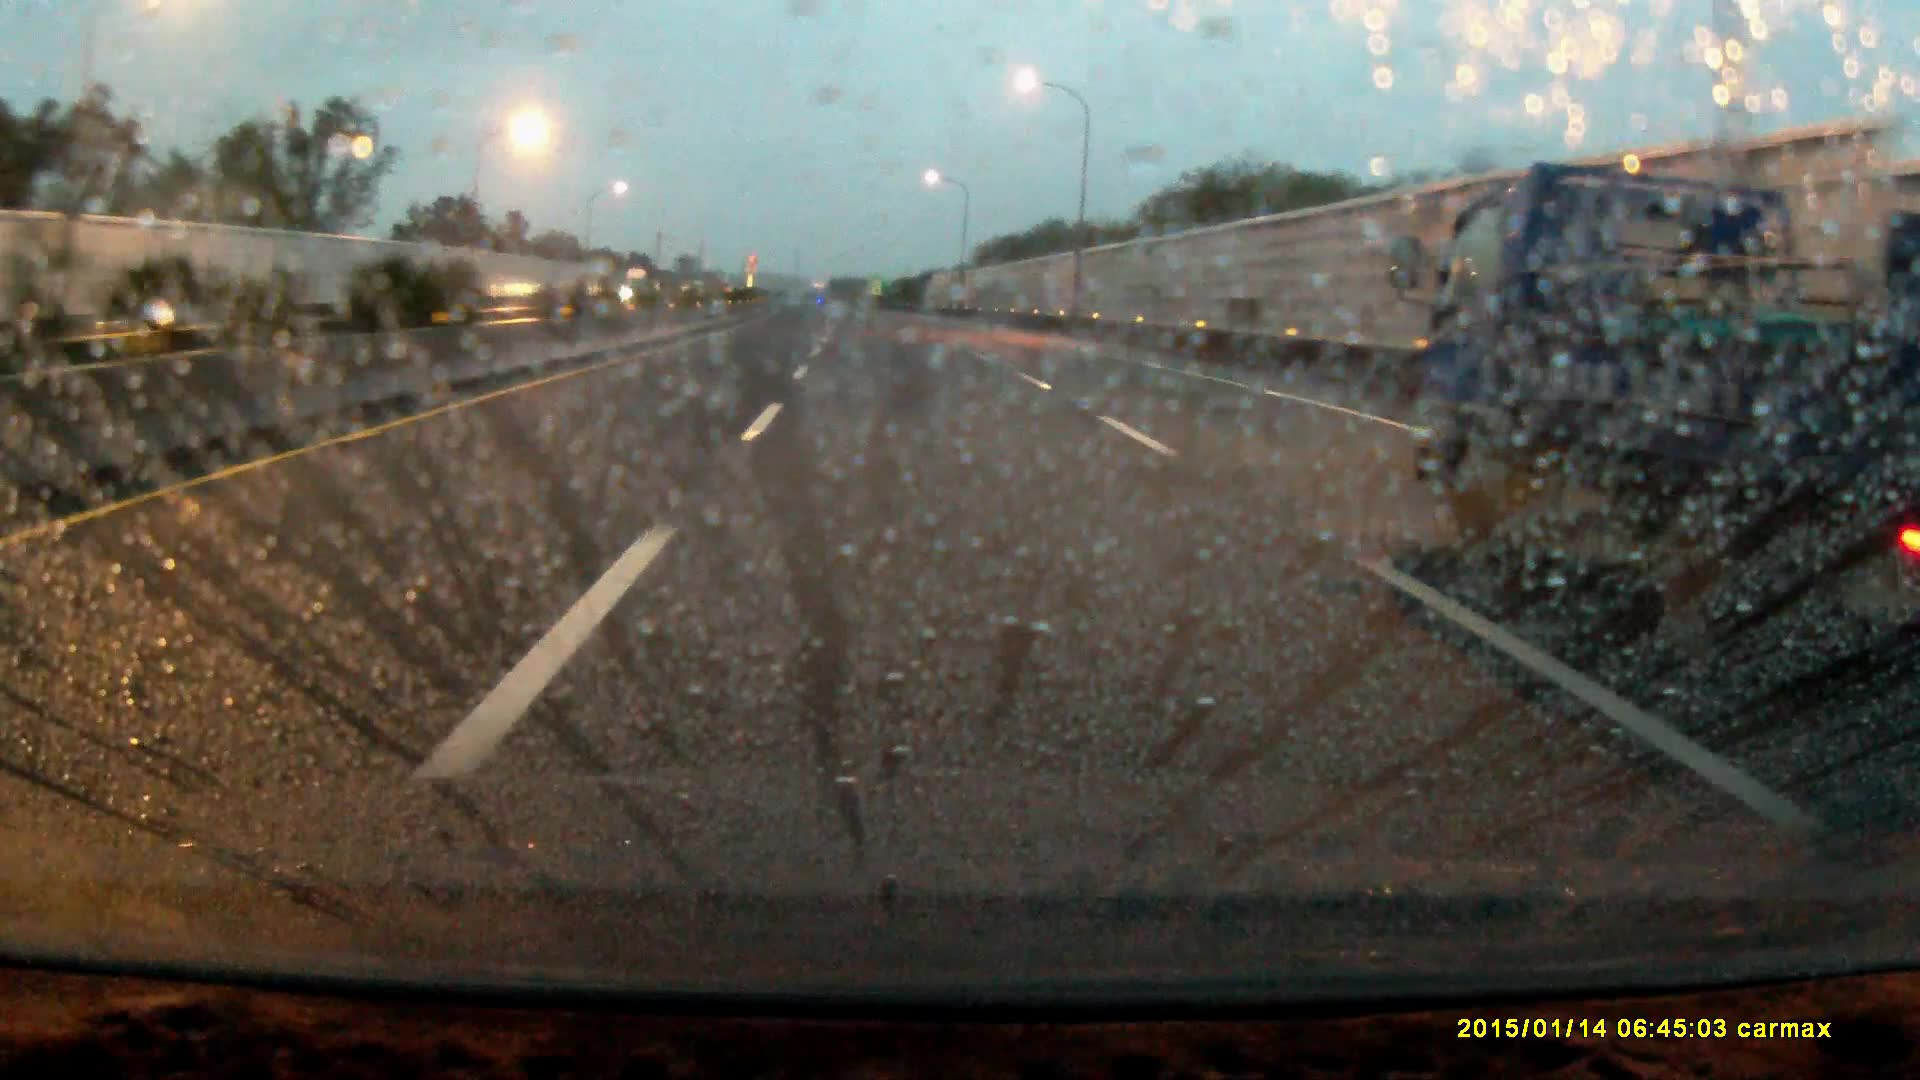vehicle: (1414, 167, 1920, 615), (98, 272, 237, 343), (625, 268, 655, 302)
